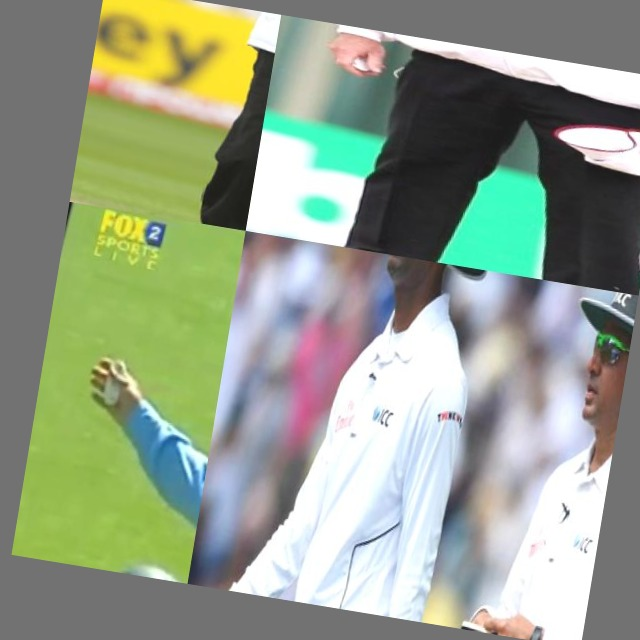No_Action: (187, 231, 532, 631), (270, 19, 640, 296), (447, 274, 639, 640)
Six: (138, 0, 281, 231)
Wide: (20, 284, 232, 584)
